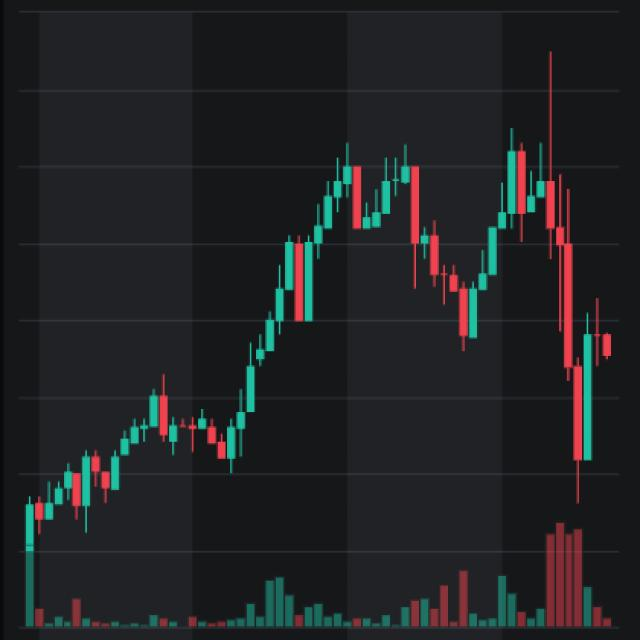Double-Top: (236, 127, 612, 486), (303, 137, 440, 264)
Resistance-breakout: (93, 161, 361, 484)
